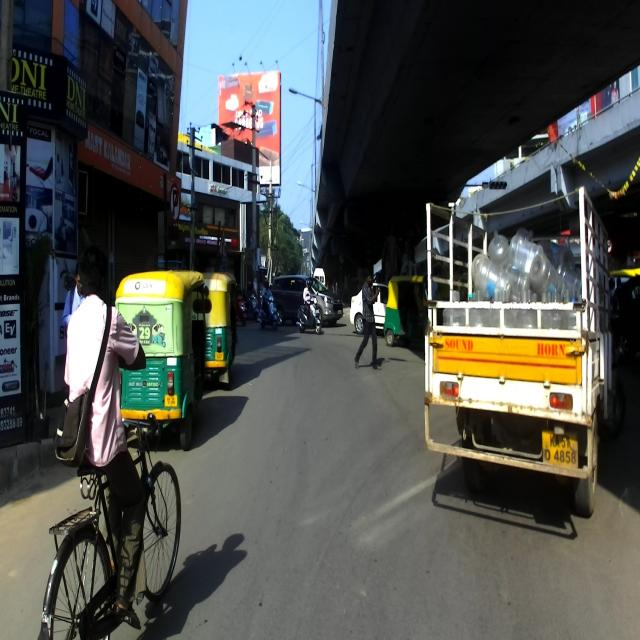Car_Toyota: (268, 275, 343, 326)
autorickshaw: (113, 267, 211, 450)
truck: (424, 192, 626, 519)
